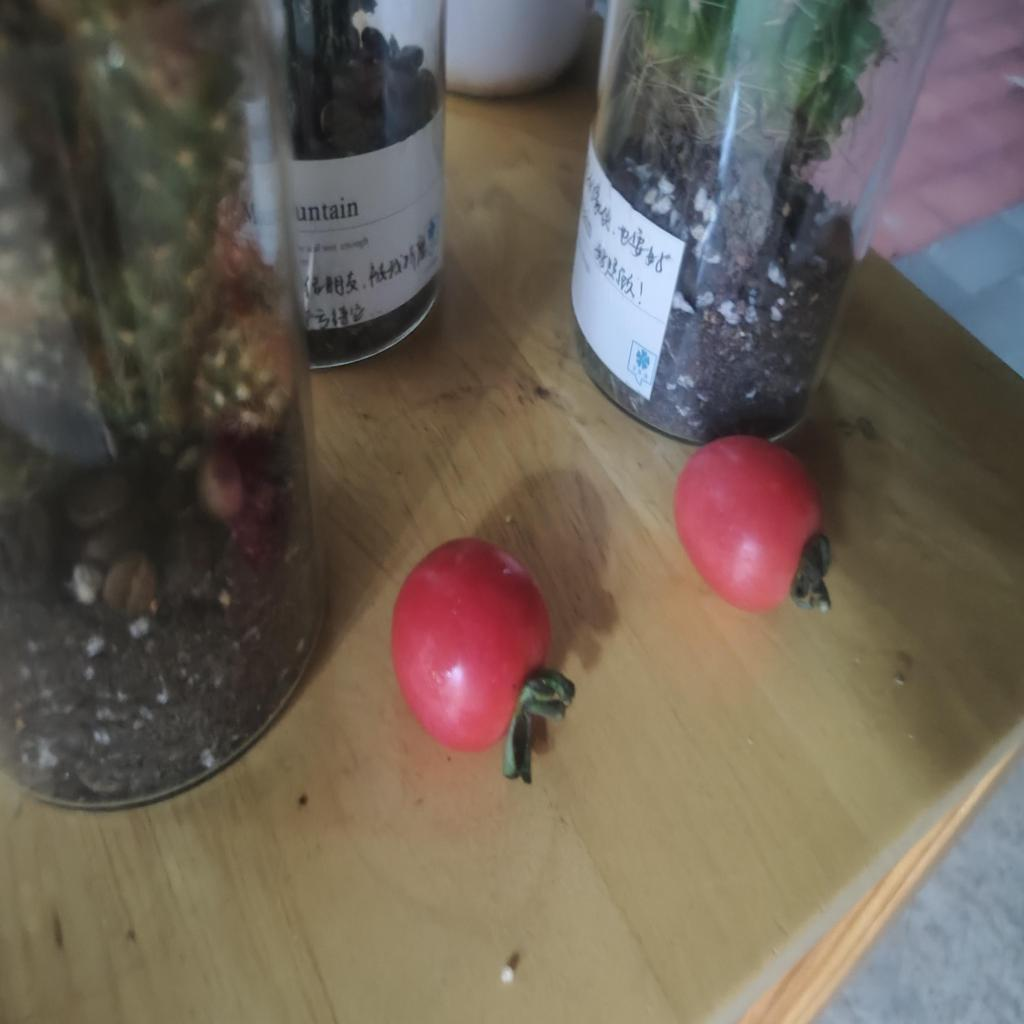tomato: (386, 539, 564, 752), (659, 439, 843, 620)
